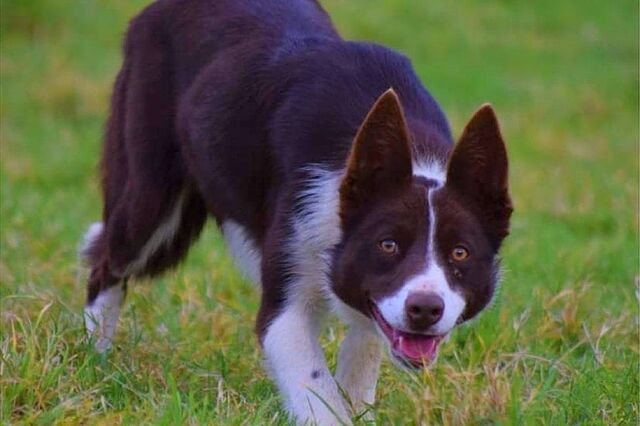dog: (77, 1, 520, 426)
